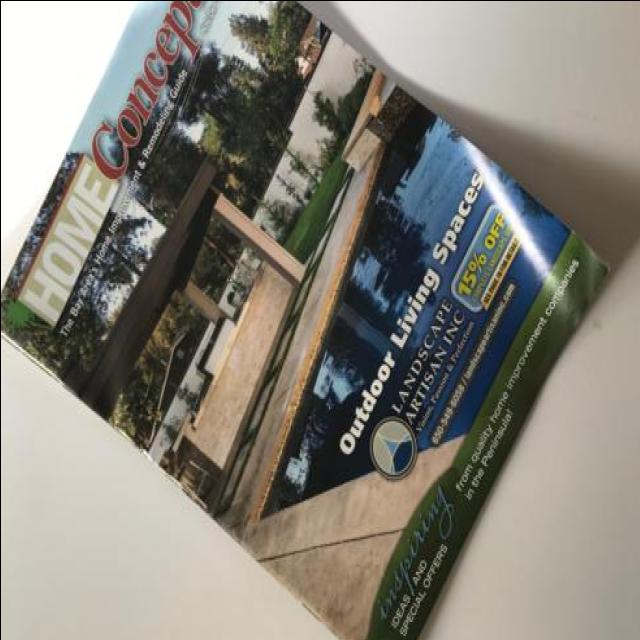kertas: (0, 0, 614, 640)
